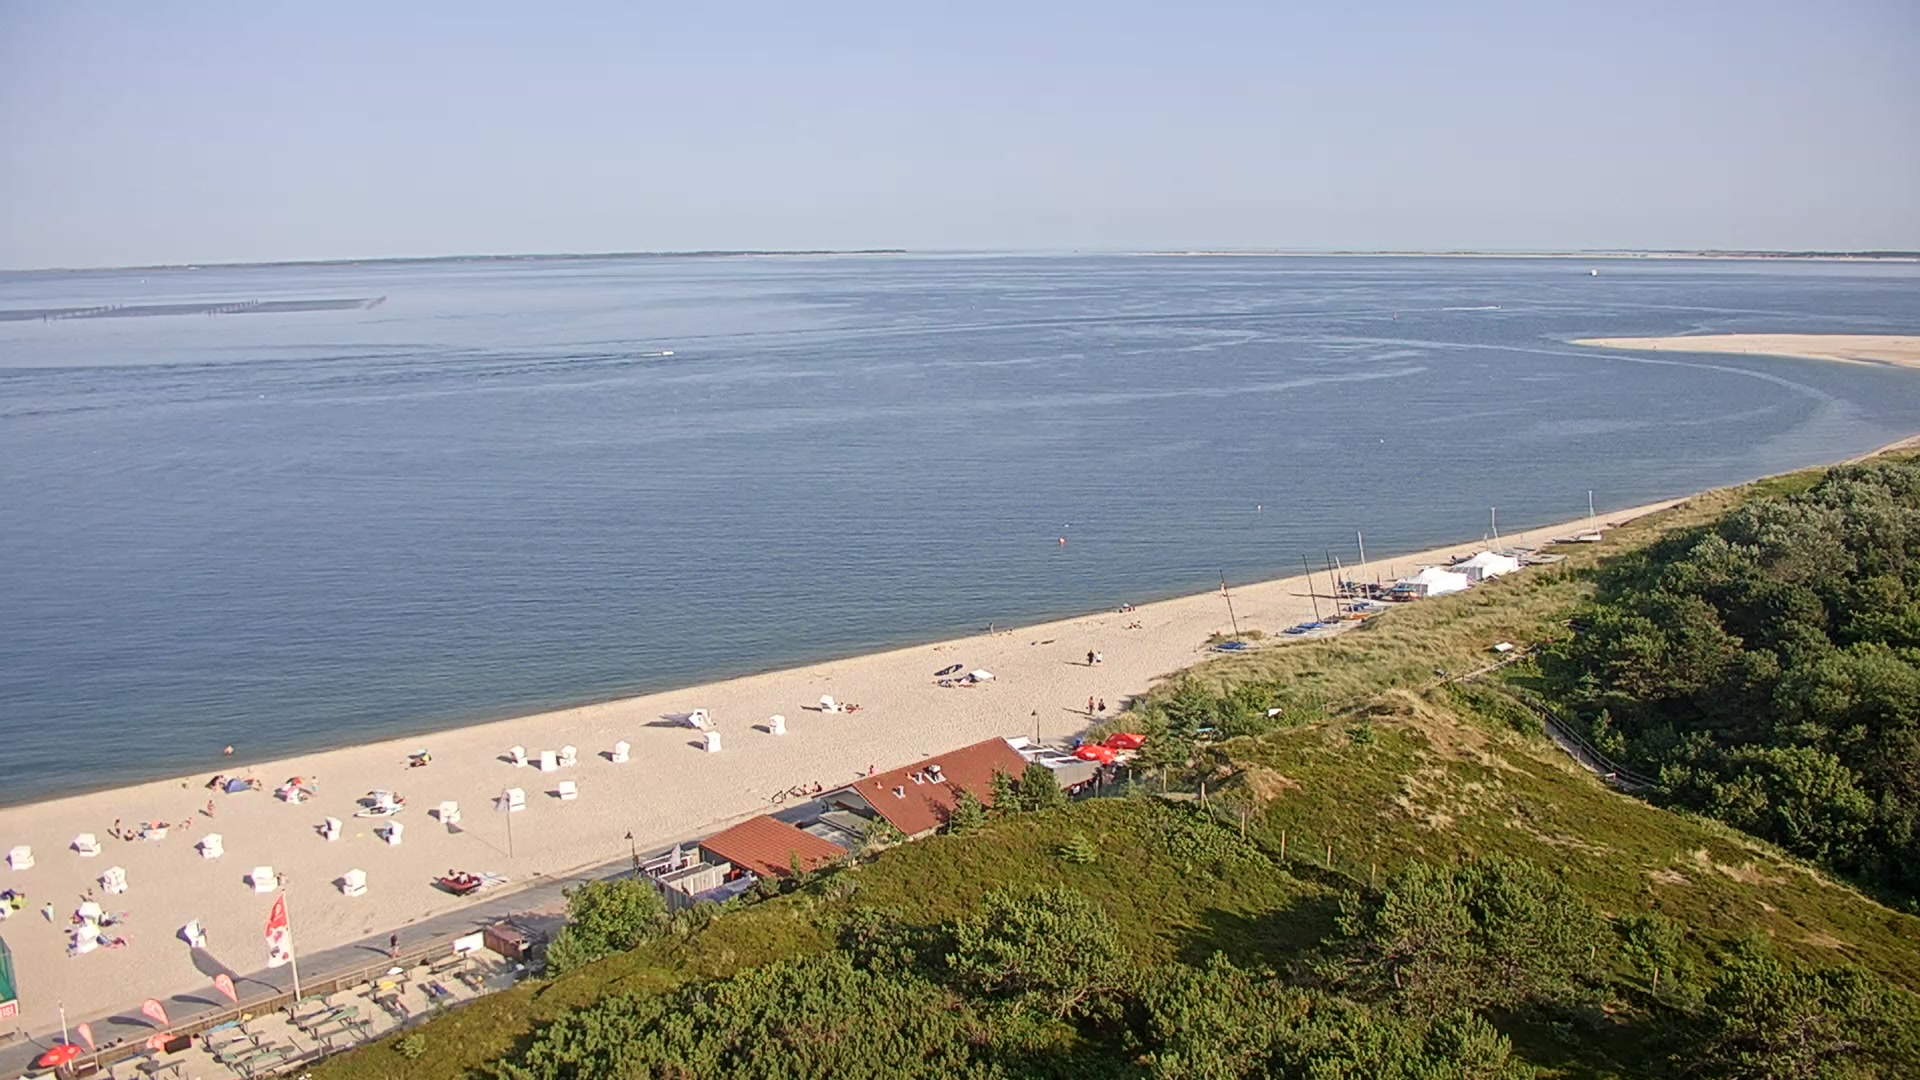human: (388, 931, 398, 958), (44, 901, 55, 923), (113, 817, 122, 840), (99, 910, 111, 926), (1086, 695, 1096, 715), (206, 799, 215, 818), (1097, 697, 1106, 716), (123, 829, 135, 841), (223, 743, 234, 755), (1087, 648, 1095, 665), (838, 701, 848, 713), (812, 780, 822, 793), (800, 783, 810, 795), (867, 764, 875, 776), (1096, 649, 1103, 663), (1218, 580, 1225, 593), (1135, 619, 1142, 629)
sea: (1203, 568, 1253, 639), (1350, 531, 1390, 606), (1294, 553, 1332, 628), (1321, 552, 1360, 623), (1336, 555, 1373, 616), (1573, 488, 1600, 541), (436, 868, 481, 895), (1524, 551, 1565, 564)
